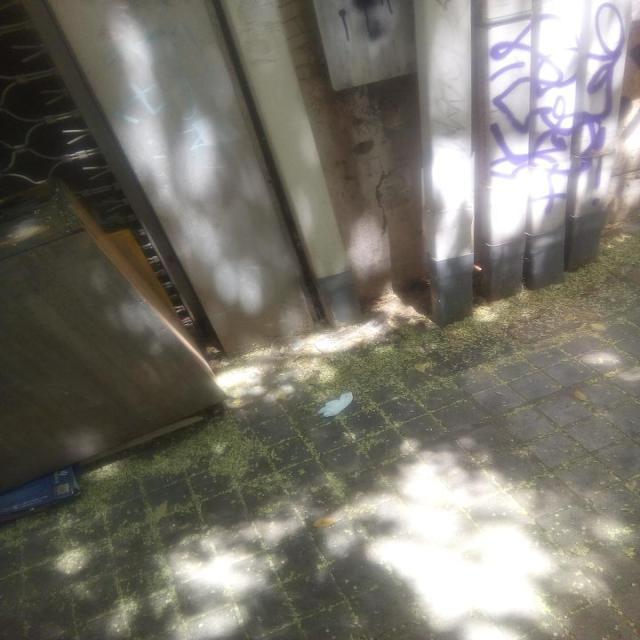nonspitting: (484, 2, 616, 176)
